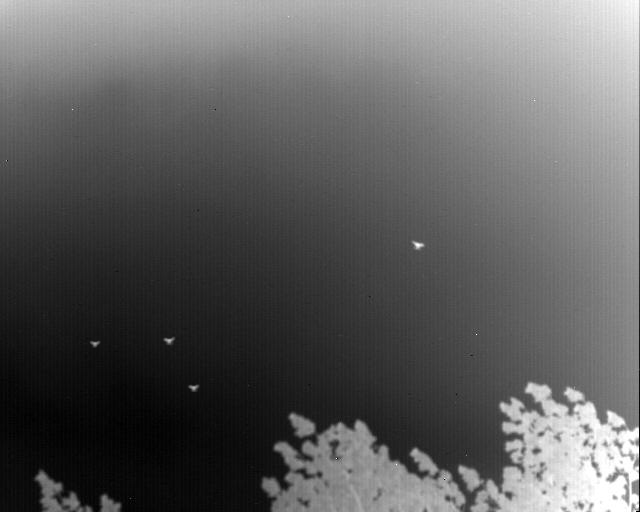plane: (412, 239, 426, 251), (163, 336, 175, 345), (189, 384, 200, 392), (90, 340, 100, 348)
